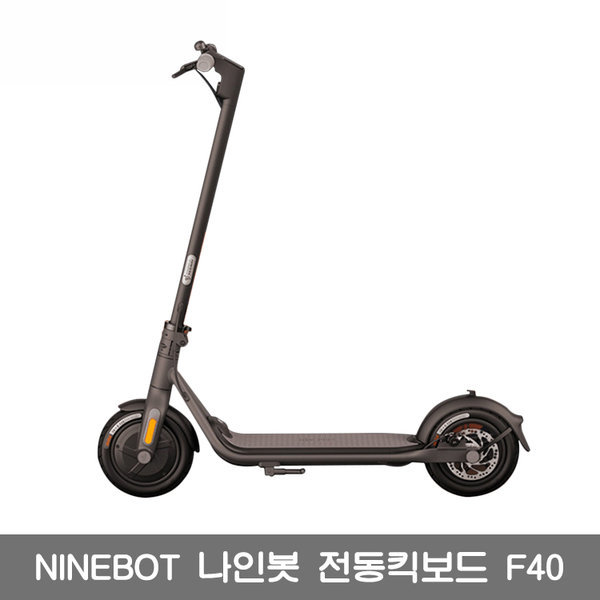scooter: (97, 40, 535, 501)
